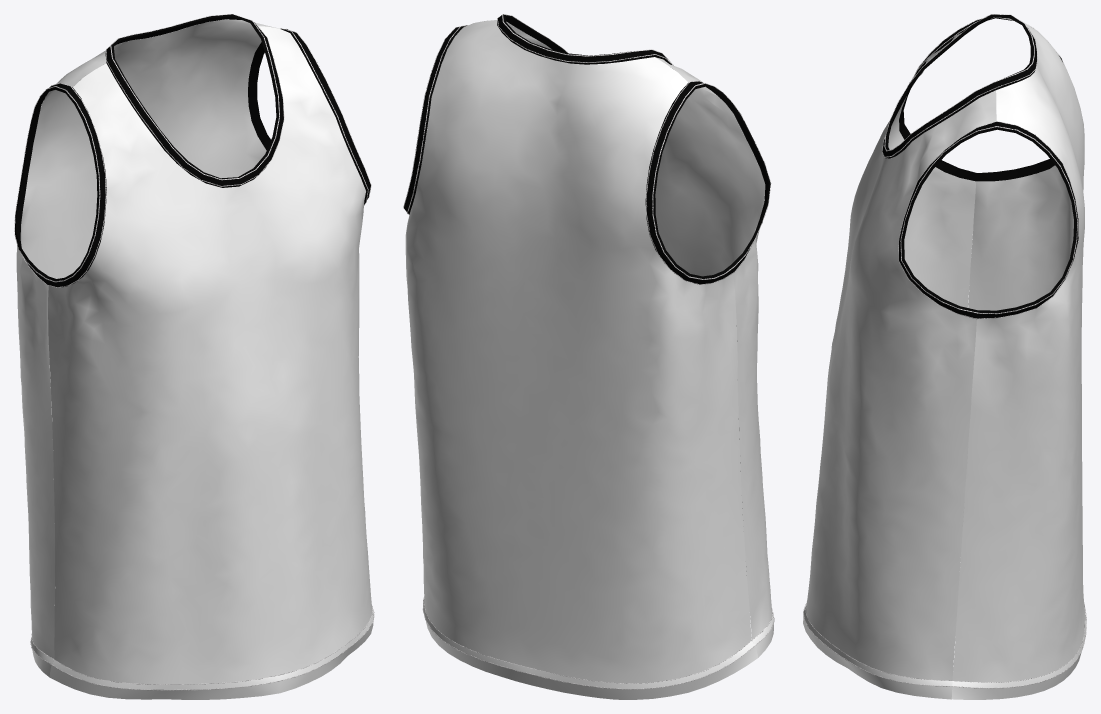
File: Canotta KIRALY.draco.glb
3 renders of one model, left to right at view 1: azimuth 30°, elevation 25°; view 2: azimuth 150°, elevation 25°; view 3: azimuth 270°, elevation 25°, orthographic. The views are drawn at different scales.
Visible parts, largest first — view 1: CANOTTA KIRALY.FRONT, CANOTTA KIRALY.RETRO, CANOTTA KIRALY.PROFILI, CANOTTA KIRALY; view 2: CANOTTA KIRALY.RETRO, CANOTTA KIRALY.FRONT, CANOTTA KIRALY.PROFILI, CANOTTA KIRALY; view 3: CANOTTA KIRALY.FRONT, CANOTTA KIRALY.RETRO, CANOTTA KIRALY.PROFILI, CANOTTA KIRALY.
Part boxes in pixels (box(x1,y1,x2,y2)): CANOTTA KIRALY.FRONT: box(48, 26, 373, 699); CANOTTA KIRALY.RETRO: box(16, 19, 278, 676); CANOTTA KIRALY.PROFILI: box(15, 14, 370, 287); CANOTTA KIRALY: box(14, 14, 374, 690); CANOTTA KIRALY.RETRO: box(405, 20, 758, 699); CANOTTA KIRALY.FRONT: box(464, 20, 773, 657); CANOTTA KIRALY.PROFILI: box(404, 14, 770, 284); CANOTTA KIRALY: box(403, 14, 774, 689); CANOTTA KIRALY.FRONT: box(803, 17, 996, 699); CANOTTA KIRALY.RETRO: box(951, 17, 1086, 699); CANOTTA KIRALY.PROFILI: box(882, 14, 1078, 318); CANOTTA KIRALY: box(803, 14, 1086, 688).
Bounding box in the file's own units: 37.15 × 68.89 × 29.84.
4 materials, 1 textured.
